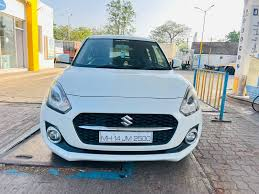Swift: (38, 32, 202, 161)
